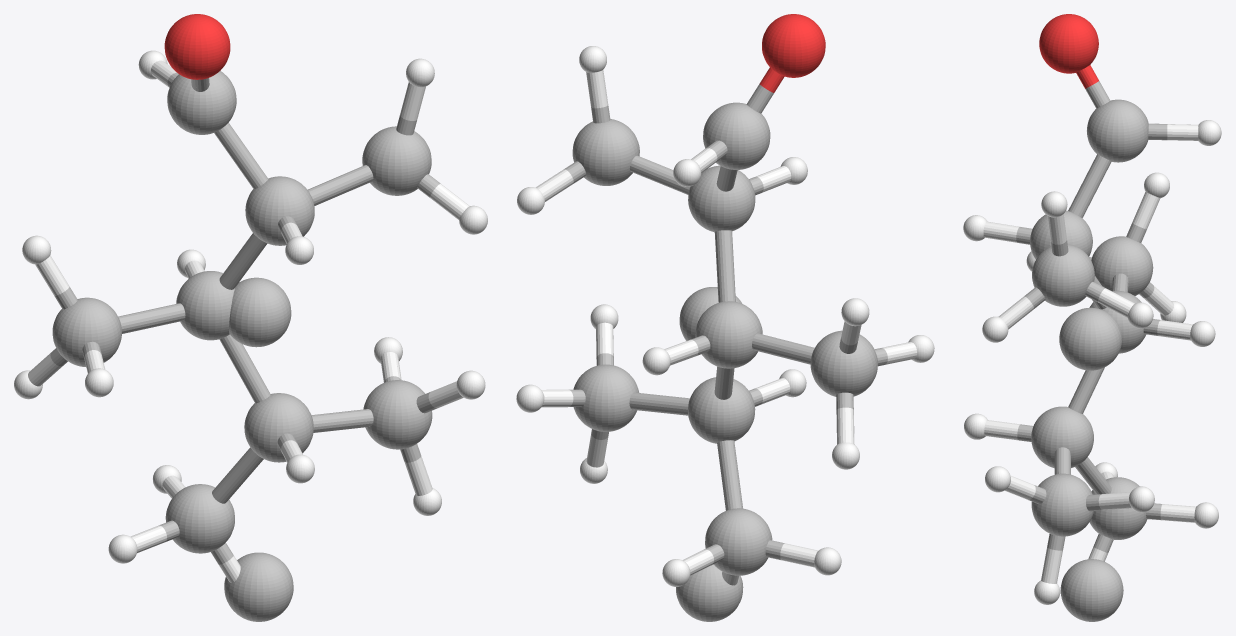
The model's file is 2,3,4 – trimetil Pentanal.fbx.
3 views of the same model, side by side, from view 1: azimuth 30°, elevation 25°; view 2: azimuth 150°, elevation 25°; view 3: azimuth 270°, elevation 25° (orthographic). The views are drawn at different scales.
Parts seen in each view (by area): view 1: Carbon_ball, Carbon_mesh|Carbon_ball.012|Dupli|4, Carbon_ball.012, Carbon_mesh|Carbon_ball.012|Dupli|5, Carbon_mesh|Carbon_ball.012|Dupli|7, Oxygen_mesh|Oxygen_ball.012|Dupli|, Carbon_mesh|Carbon_ball.012|Dupli|6, Carbon_mesh|Carbon_ball.012|Dupli|3, Carbon_mesh|Carbon_ball.012|Dupli|, Carbon_mesh|Carbon_ball.012|Dupli|1, Carbon_mesh|Carbon_ball.012|Dupli|2, Hydrogen_mesh|Hydrogen_ball.012|Dupli|3 (+7 smaller); view 2: Carbon_mesh|Carbon_ball.012|Dupli|4, Carbon_mesh|Carbon_ball.012|Dupli|5, Carbon_mesh|Carbon_ball.012|Dupli|2, Carbon_mesh|Carbon_ball.012|Dupli|1, Carbon_mesh|Carbon_ball.012|Dupli|7, Oxygen_mesh|Oxygen_ball.012|Dupli|, Carbon_mesh|Carbon_ball.012|Dupli|3, Carbon_mesh|Carbon_ball.012|Dupli|6, Carbon_mesh|Carbon_ball.012|Dupli|, Carbon_ball, Carbon_ball.012, Hydrogen_mesh|Hydrogen_ball.012|Dupli|2 (+8 smaller); view 3: Carbon_ball, Carbon_ball.012, Carbon_mesh|Carbon_ball.012|Dupli|1, Carbon_mesh|Carbon_ball.012|Dupli|4, Carbon_mesh|Carbon_ball.012|Dupli|7, Oxygen_mesh|Oxygen_ball.012|Dupli|, Carbon_mesh|Carbon_ball.012|Dupli|3, Carbon_mesh|Carbon_ball.012|Dupli|6, Carbon_mesh|Carbon_ball.012|Dupli|5, Carbon_mesh|Carbon_ball.012|Dupli|, Carbon_mesh|Carbon_ball.012|Dupli|2, Hydrogen_mesh|Hydrogen_ball.012|Dupli|6 (+11 smaller).
Boxes of the visible parts, <box> form: Carbon_ball: <box>224,552,293,621</box>; Carbon_mesh|Carbon_ball.012|Dupli|4: <box>362,126,431,195</box>; Carbon_ball.012: <box>229,277,291,347</box>; Carbon_mesh|Carbon_ball.012|Dupli|5: <box>165,484,234,553</box>; Carbon_mesh|Carbon_ball.012|Dupli|7: <box>363,380,432,449</box>; Oxygen_mesh|Oxygen_ball.012|Dupli|: <box>164,14,230,79</box>; Carbon_mesh|Carbon_ball.012|Dupli|6: <box>52,297,121,366</box>; Carbon_mesh|Carbon_ball.012|Dupli|3: <box>244,393,313,462</box>; Carbon_mesh|Carbon_ball.012|Dupli|: <box>245,176,314,245</box>; Carbon_mesh|Carbon_ball.012|Dupli|1: <box>167,71,236,134</box>; Carbon_mesh|Carbon_ball.012|Dupli|2: <box>176,271,234,340</box>; Hydrogen_mesh|Hydrogen_ball.012|Dupli|3: <box>286,454,314,483</box>; Carbon_mesh|Carbon_ball.012|Dupli|4: <box>572,119,639,185</box>; Carbon_mesh|Carbon_ball.012|Dupli|5: <box>705,508,772,575</box>; Carbon_mesh|Carbon_ball.012|Dupli|2: <box>695,301,762,368</box>; Carbon_mesh|Carbon_ball.012|Dupli|1: <box>703,102,770,169</box>; Carbon_mesh|Carbon_ball.012|Dupli|7: <box>573,364,639,431</box>; Oxygen_mesh|Oxygen_ball.012|Dupli|: <box>762,14,825,77</box>; Carbon_mesh|Carbon_ball.012|Dupli|3: <box>688,377,755,443</box>; Carbon_mesh|Carbon_ball.012|Dupli|6: <box>810,330,877,396</box>; Carbon_mesh|Carbon_ball.012|Dupli|: <box>688,165,755,232</box>; Carbon_ball: <box>676,564,743,621</box>; Carbon_ball.012: <box>679,287,742,340</box>; Hydrogen_mesh|Hydrogen_ball.012|Dupli|2: <box>642,347,670,375</box>; Carbon_ball: <box>1060,559,1123,621</box>; Carbon_ball.012: <box>1059,307,1121,370</box>; Carbon_mesh|Carbon_ball.012|Dupli|1: <box>1087,99,1148,162</box>; Carbon_mesh|Carbon_ball.012|Dupli|4: <box>1032,244,1094,306</box>; Carbon_mesh|Carbon_ball.012|Dupli|7: <box>1031,473,1093,536</box>; Oxygen_mesh|Oxygen_ball.012|Dupli|: <box>1039,14,1098,73</box>; Carbon_mesh|Carbon_ball.012|Dupli|3: <box>1031,406,1093,468</box>; Carbon_mesh|Carbon_ball.012|Dupli|6: <box>1091,236,1153,295</box>; Carbon_mesh|Carbon_ball.012|Dupli|5: <box>1089,477,1147,539</box>; Carbon_mesh|Carbon_ball.012|Dupli|: <box>1030,210,1092,259</box>; Carbon_mesh|Carbon_ball.012|Dupli|2: <box>1089,290,1146,353</box>; Hydrogen_mesh|Hydrogen_ball.012|Dupli|6: <box>1041,191,1067,217</box>.
Bounding box in the file's own units: 479 × 768 × 316.
